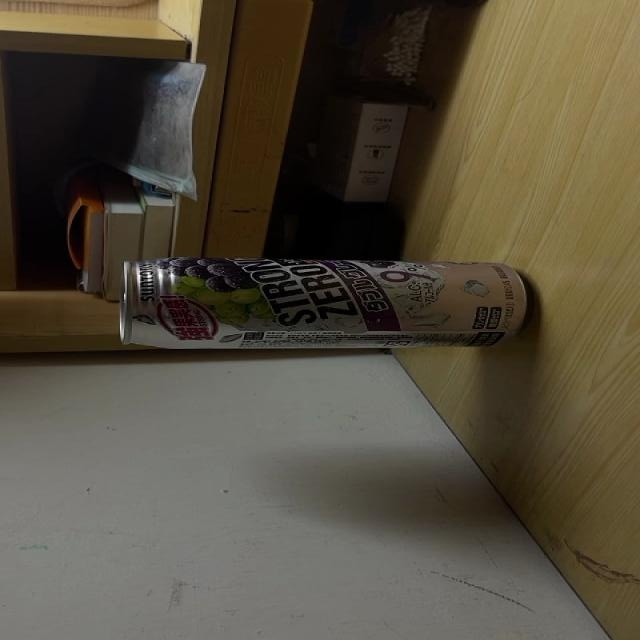Liquor: (116, 258, 529, 349)
